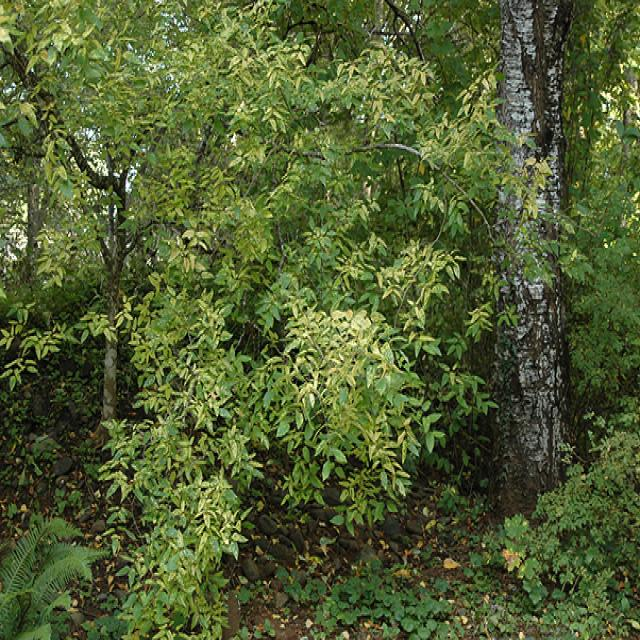Celtis reticulata: (3, 1, 491, 612)
